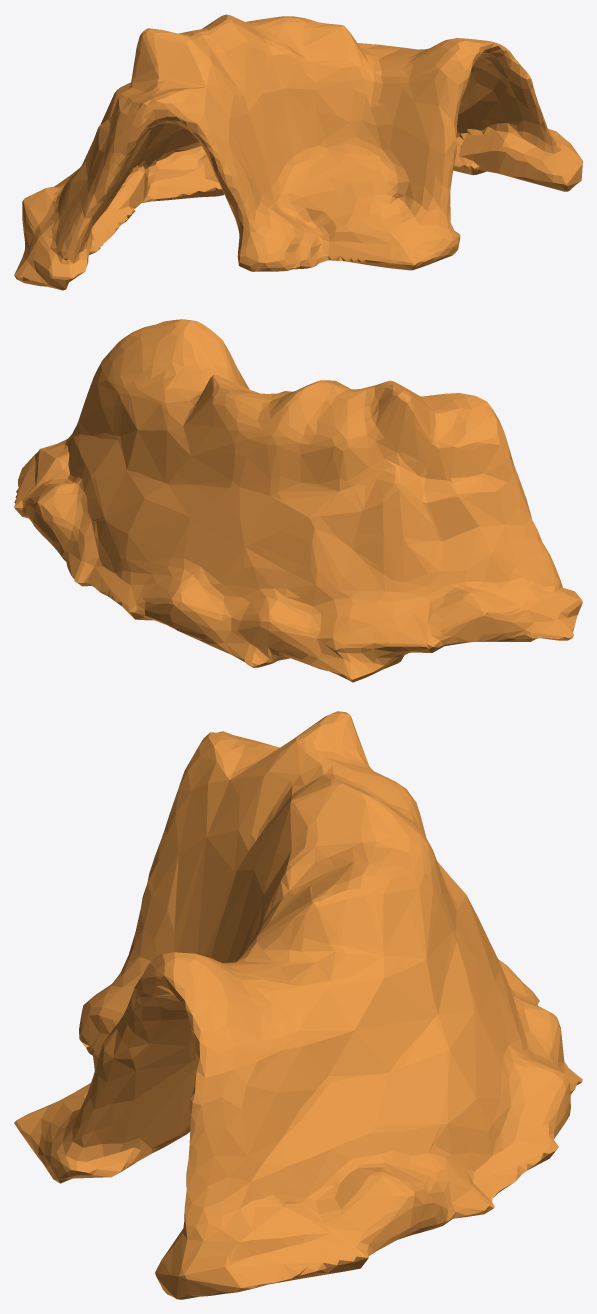
Rendered from SM_Tunnel1.fbx.
The picture shows the model from 3 angles, top to bottom: view 1: azimuth 30°, elevation 25°; view 2: azimuth 150°, elevation 25°; view 3: azimuth 270°, elevation 25°; orthographic projection. The views are drawn at different scales.
Parts seen in each view (by area): view 1: SM_Tunnel1; view 2: SM_Tunnel1; view 3: SM_Tunnel1.
Boxes of the visible parts, bbox=[...] form: SM_Tunnel1: bbox=[14, 14, 582, 290]; SM_Tunnel1: bbox=[14, 319, 582, 682]; SM_Tunnel1: bbox=[14, 711, 582, 1299].
Size of the model in its own units: 567 by 221 by 344.
